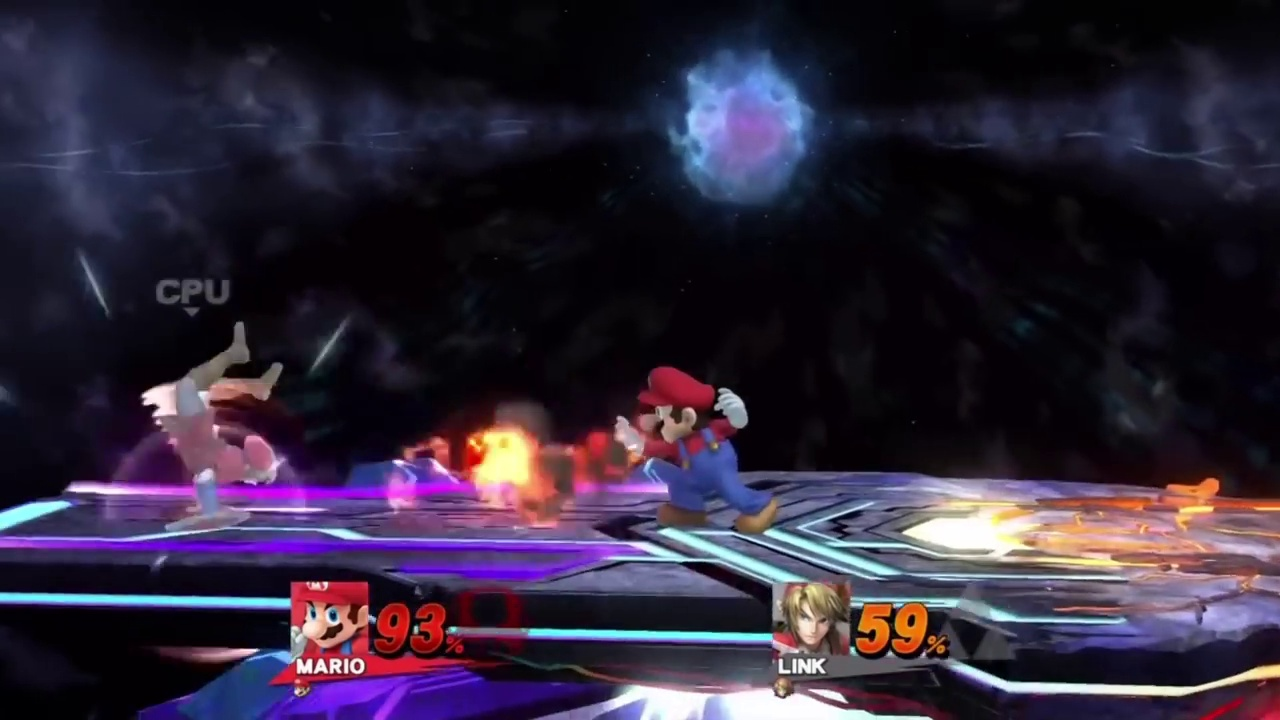Mario: (614, 364, 787, 534)
